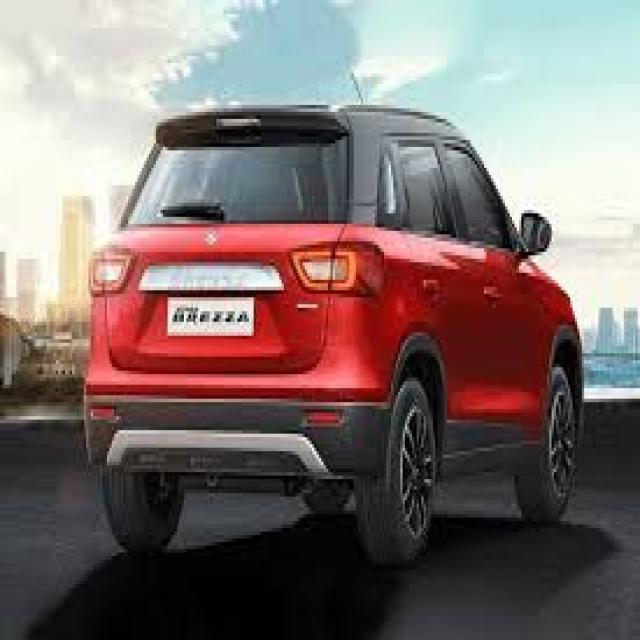car: (49, 70, 591, 556)
